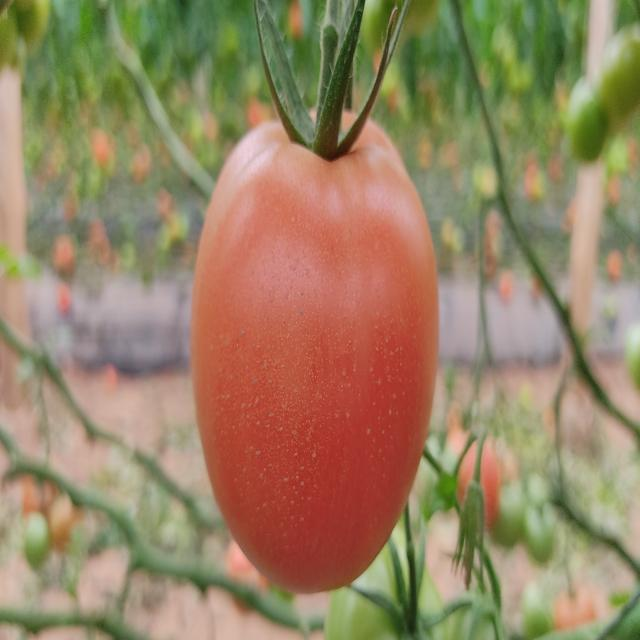Ripe Tomato: (193, 108, 437, 601)
